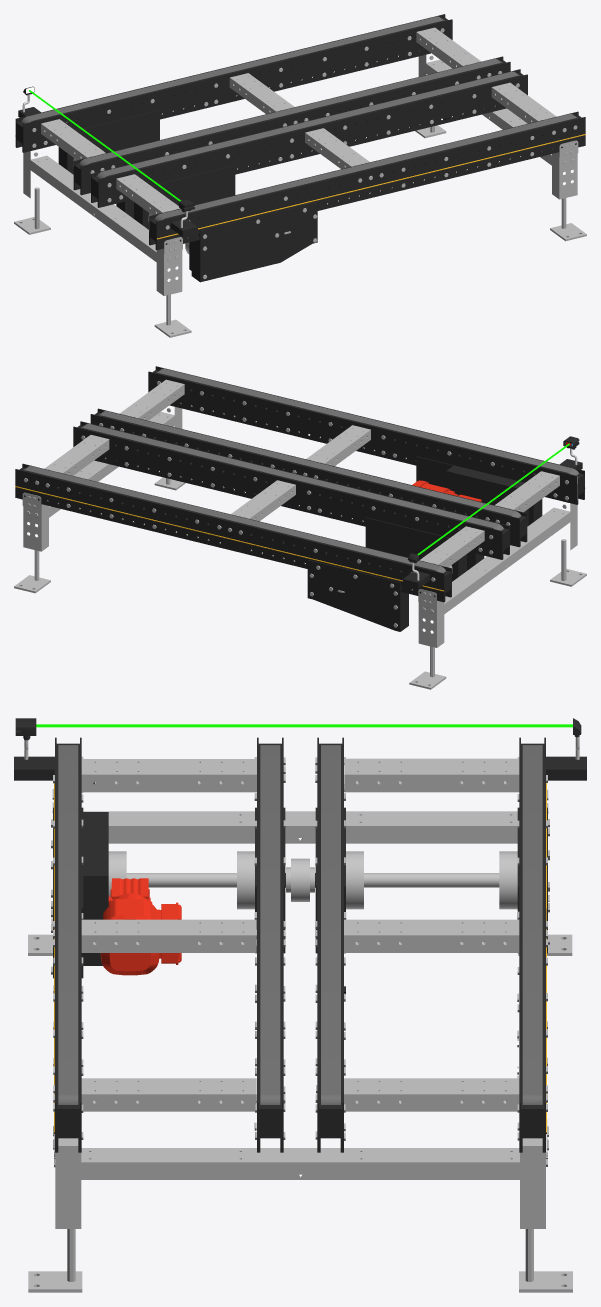
The model's file is ChainConveyor-2m.glb.
3 views of the same model, one above another, from view 1: azimuth 30°, elevation 25°; view 2: azimuth 150°, elevation 25°; view 3: azimuth 270°, elevation 25° (orthographic). The views are drawn at different scales.
Parts seen in each view (by area): view 1: Base, Transport-Z, Ray; view 2: Base, Transport-Z, Ray; view 3: Base, Transport-Z, DriveMesh, Ray, Cube (×2).
Part boxes in pixels (x1,y1,x2,y2): Base: (14,14,586,337); Transport-Z: (21,16,577,220); Ray: (29,90,181,201); Base: (14,366,586,689); Transport-Z: (23,368,579,573); Ray: (417,443,569,555); Base: (28,737,572,1292); Transport-Z: (58,745,542,1104); DriveMesh: (100,878,181,975); Ray: (36,724,572,727); Cube (×2): (14,756,586,780).
Size of the model in its own units: 2 by 0.5878 by 1.33.
